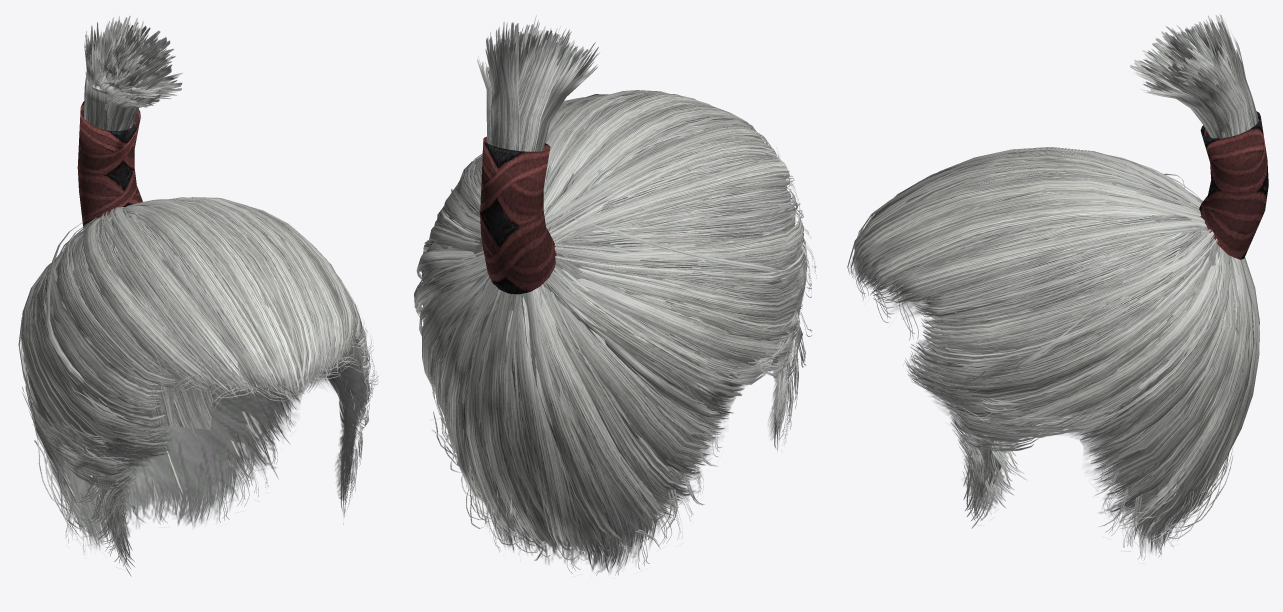
The model's file is hair012.glb.
3 views of the same model, side by side, from view 1: azimuth 30°, elevation 25°; view 2: azimuth 150°, elevation 25°; view 3: azimuth 270°, elevation 25° (orthographic). The views are drawn at different scales.
Parts seen in each view (by area): view 1: hair, scalp, tie; view 2: hair, tie, scalp; view 3: hair, tie, scalp.
Part boxes in pixels (left/top/right/bottom): hair: left=18, top=15, right=378, bottom=576; scalp: left=54, top=249, right=367, bottom=552; tie: left=77, top=101, right=142, bottom=229; hair: left=414, top=15, right=816, bottom=575; tie: left=480, top=136, right=556, bottom=294; scalp: left=500, top=174, right=802, bottom=573; hair: left=847, top=14, right=1259, bottom=560; tie: left=1199, top=111, right=1268, bottom=259; scalp: left=856, top=257, right=1188, bottom=554.
Size of the model in its own units: 0.1549 by 0.2415 by 0.1721.
Materials: 3 (3 with a texture image).
